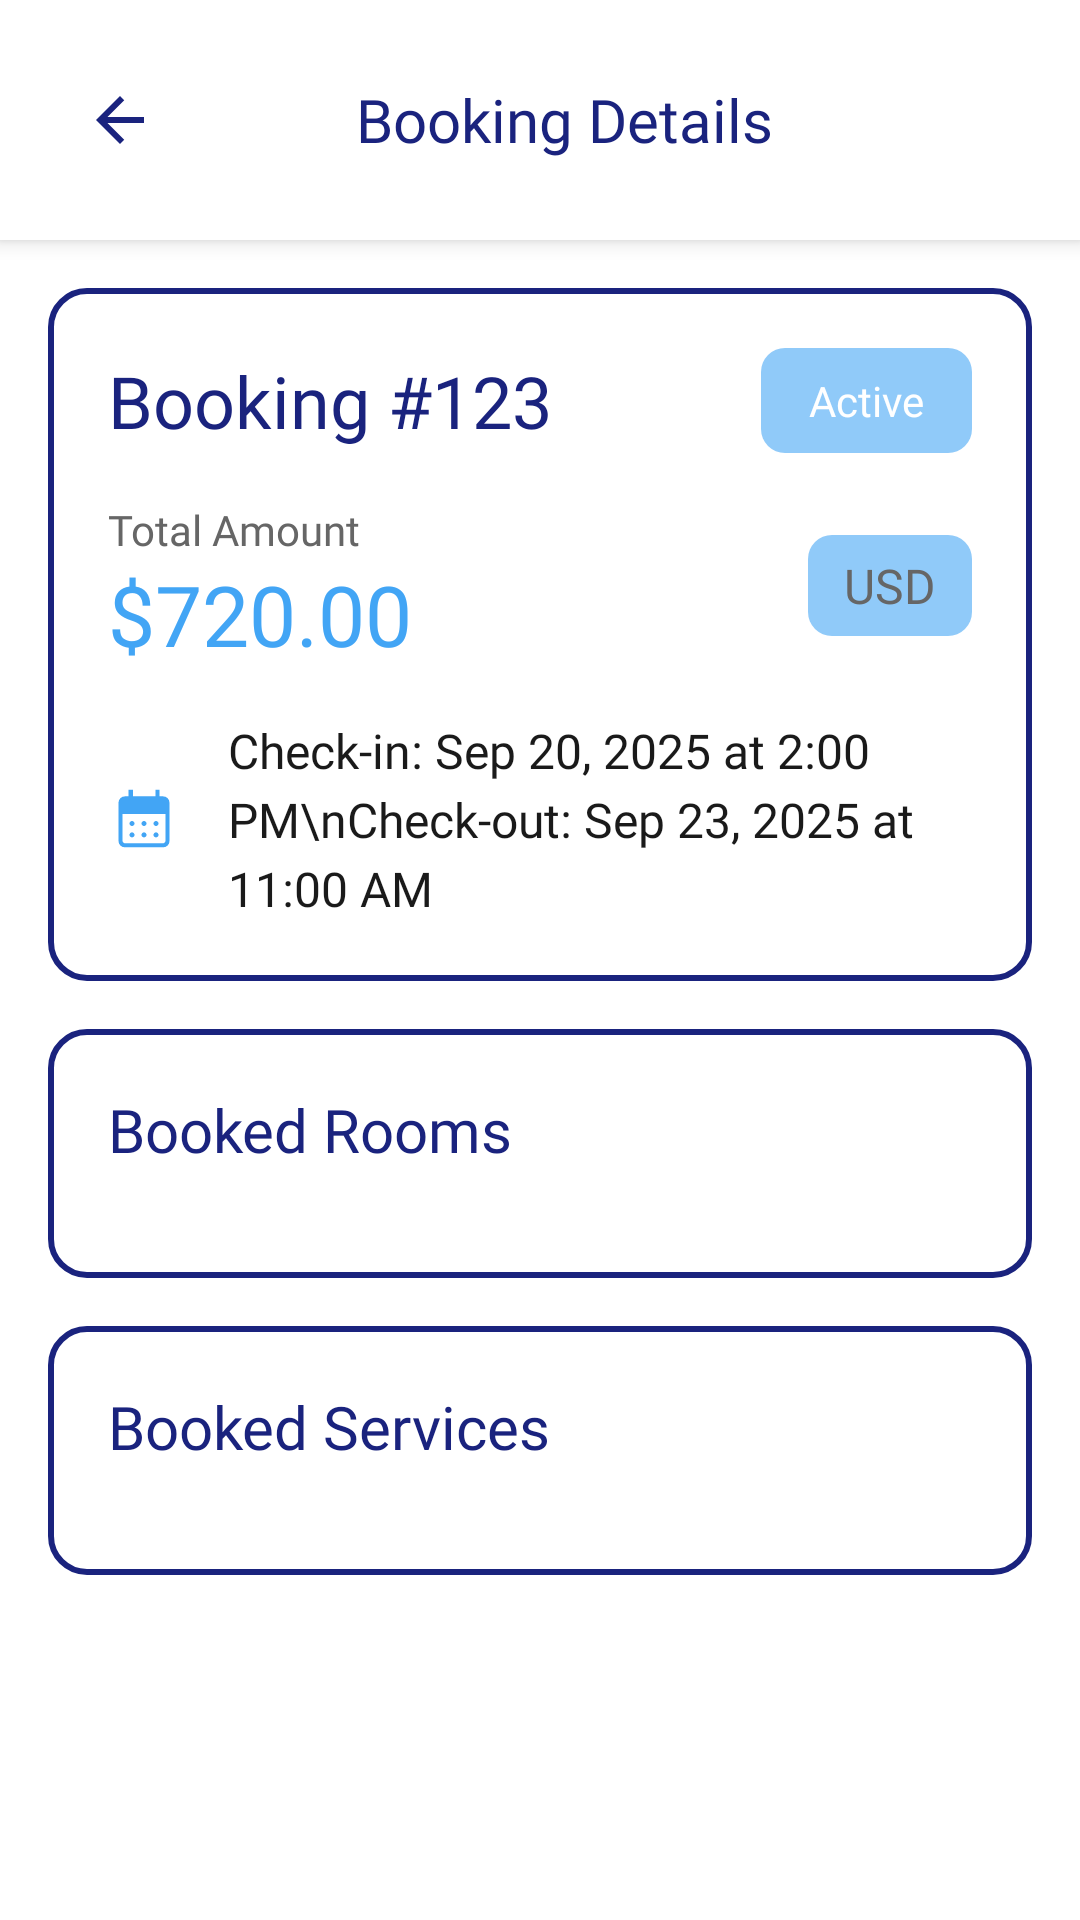

Named icons in this screenshot (1080*1920) and their centers, [x,y]:
Calendar icon: [144,818]
Go back: [120,120]
